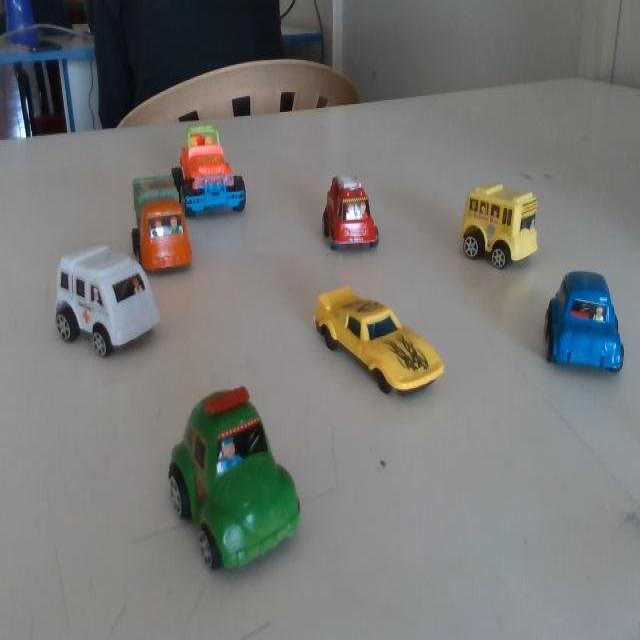car: (159, 390, 302, 562), (312, 282, 440, 400), (51, 233, 159, 367), (545, 269, 629, 379), (177, 116, 257, 216), (452, 182, 535, 278), (129, 165, 194, 280), (312, 165, 380, 263)
